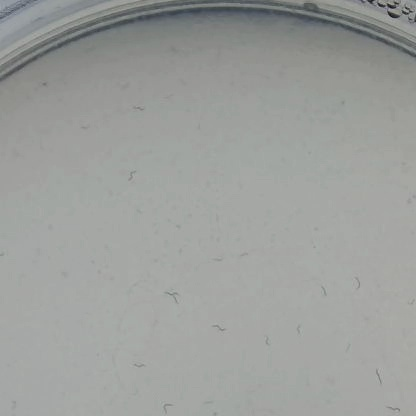worm: (363, 365, 394, 386), (227, 245, 256, 266), (342, 273, 366, 292), (378, 398, 403, 415), (210, 319, 231, 339), (164, 289, 185, 309), (8, 395, 28, 416), (204, 205, 225, 225), (128, 163, 143, 190), (117, 277, 140, 292), (203, 249, 224, 265), (128, 102, 150, 117), (313, 279, 331, 297), (159, 399, 176, 416), (263, 330, 276, 352), (76, 120, 94, 134), (198, 395, 217, 408), (129, 358, 149, 370), (339, 340, 354, 356), (402, 293, 416, 309), (296, 319, 306, 340)
